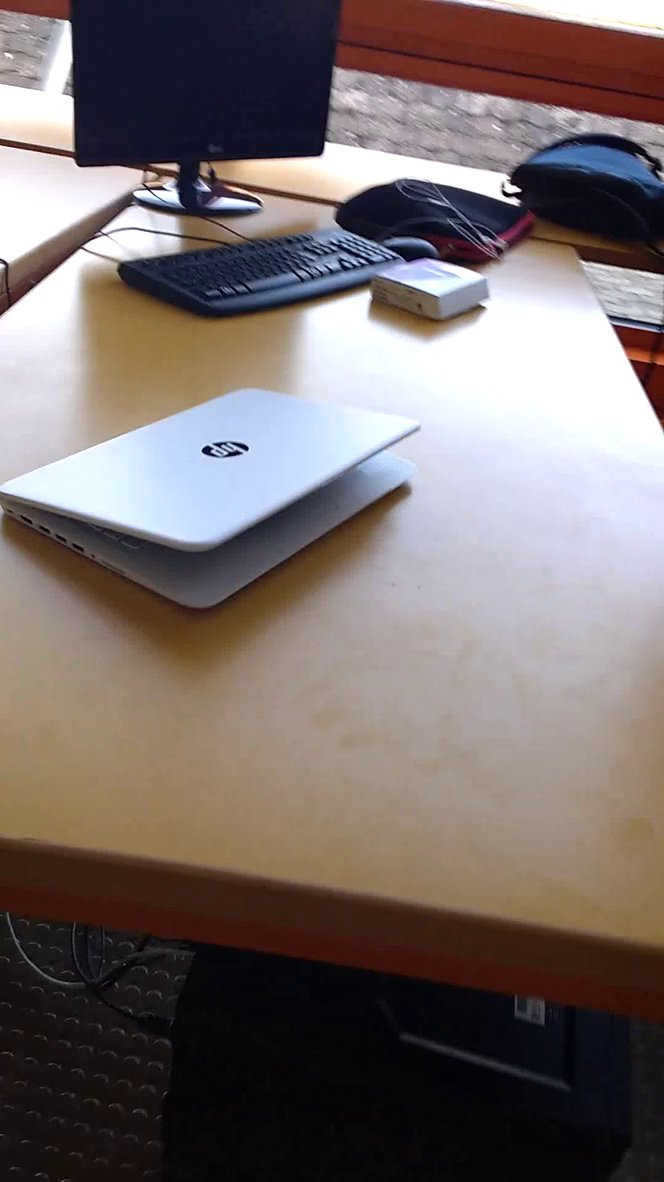laptop: (1, 368, 441, 635)
